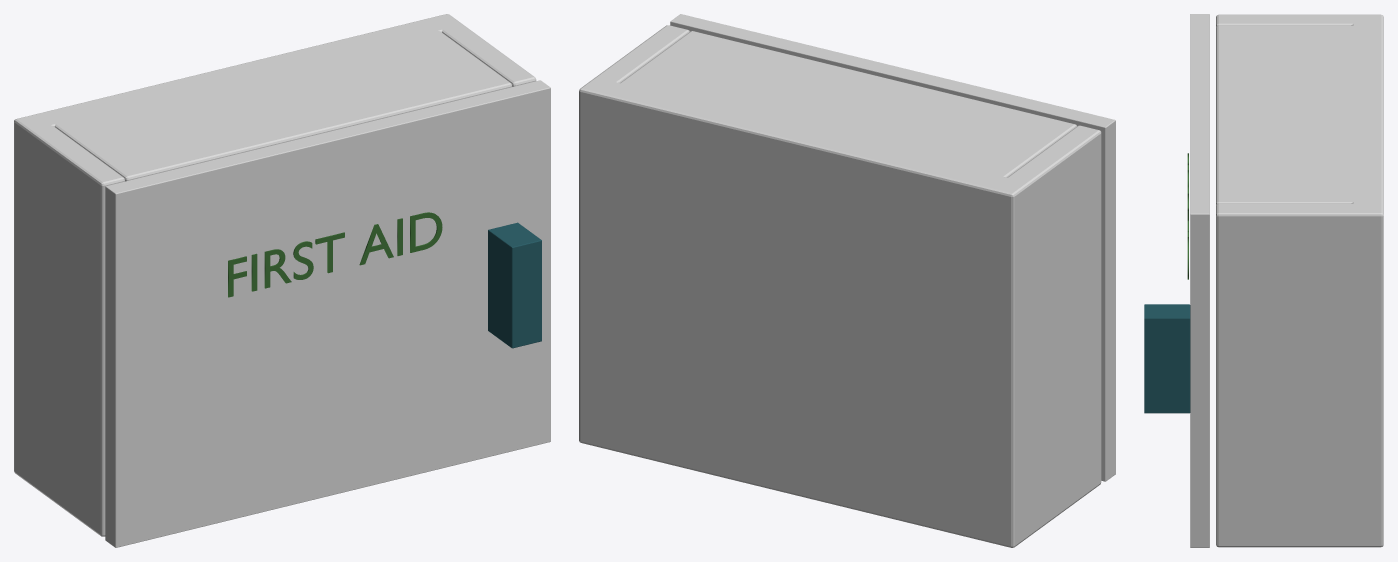
File: first-aid-box.glb
The picture shows the model from 3 angles, left to right: view 1: azimuth 30°, elevation 25°; view 2: azimuth 150°, elevation 25°; view 3: azimuth 270°, elevation 25°; orthographic projection. The views are drawn at different scales.
Parts seen in each view (by area): view 1: Door_Panel, Shelf.001, Side, Case_Back, Handle, Editable_Label_FIRST_AID, Side.001; view 2: Case_Back, Shelf.001, Side, Door_Panel, Side.001; view 3: Side.001, Shelf.001, Case_Back, Door_Panel, Handle, Side.
Boxes of the visible parts, box(x1,y1,x2,y2) form: Door_Panel: box(105, 80, 550, 547); Shelf.001: box(46, 24, 512, 181); Side: box(20, 120, 124, 536); Case_Back: box(14, 14, 461, 482); Handle: box(488, 222, 541, 348); Editable_Label_FIRST_AID: box(228, 212, 442, 297); Side.001: box(434, 18, 536, 86); Case_Back: box(579, 77, 1029, 547); Shelf.001: box(611, 31, 1076, 183); Side: box(1004, 125, 1101, 543); Door_Panel: box(670, 14, 1115, 481); Side.001: box(587, 25, 689, 83); Side.001: box(1216, 204, 1371, 547); Shelf.001: box(1216, 26, 1371, 205); Case_Back: box(1351, 14, 1383, 547); Door_Panel: box(1190, 14, 1209, 547); Handle: box(1144, 304, 1190, 413); Side: box(1216, 14, 1370, 27).
Size of the model in its own units: 0.36 by 0.28 by 0.182.
